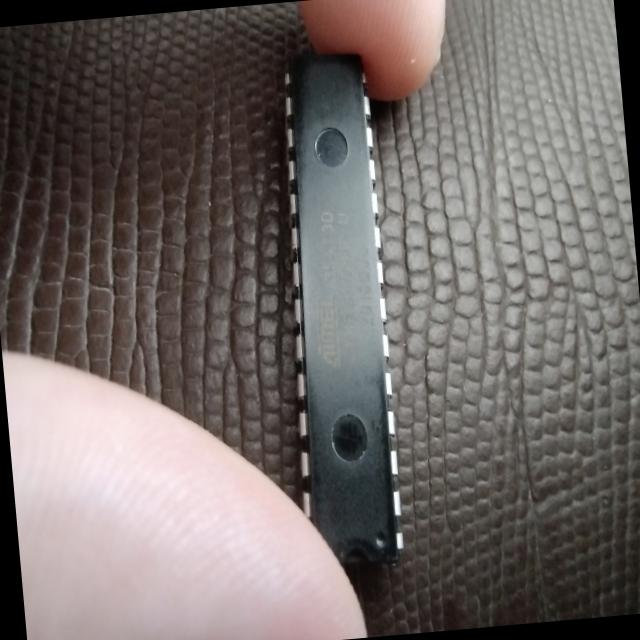atmega: (266, 44, 412, 574)
